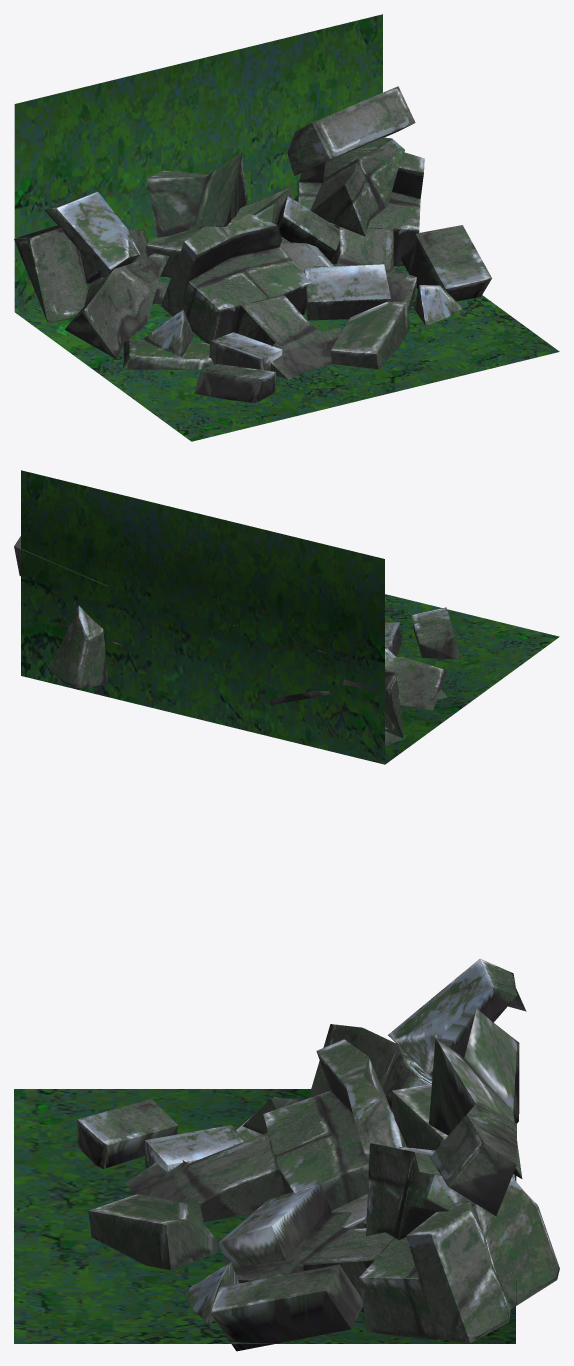
Rendered from stemple_rubble_straight_04.fbx.
3 views of the same model, one above another, from view 1: azimuth 30°, elevation 25°; view 2: azimuth 150°, elevation 25°; view 3: azimuth 270°, elevation 25° (orthographic). The views are drawn at different scales.
Parts seen in each view (by area): view 1: stemple_rubble_straight_04-0; view 2: stemple_rubble_straight_04-0; view 3: stemple_rubble_straight_04-0.
Part boxes in pixels (<box>): stemple_rubble_straight_04-0: <box>14,14,559,441</box>; stemple_rubble_straight_04-0: <box>14,470,559,764</box>; stemple_rubble_straight_04-0: <box>14,958,559,1351</box>.
Bounding box in the file's own units: 4.19 × 2.43 × 3.62.
